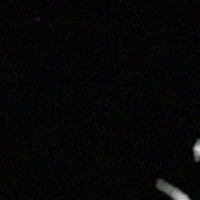chromosome: (147, 179, 200, 200), (190, 136, 200, 164)
